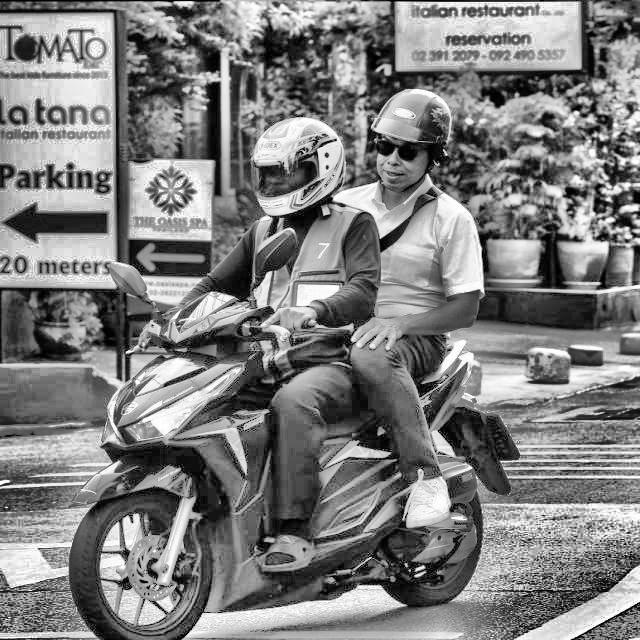Helmet: (246, 114, 350, 222), (368, 85, 454, 193)
